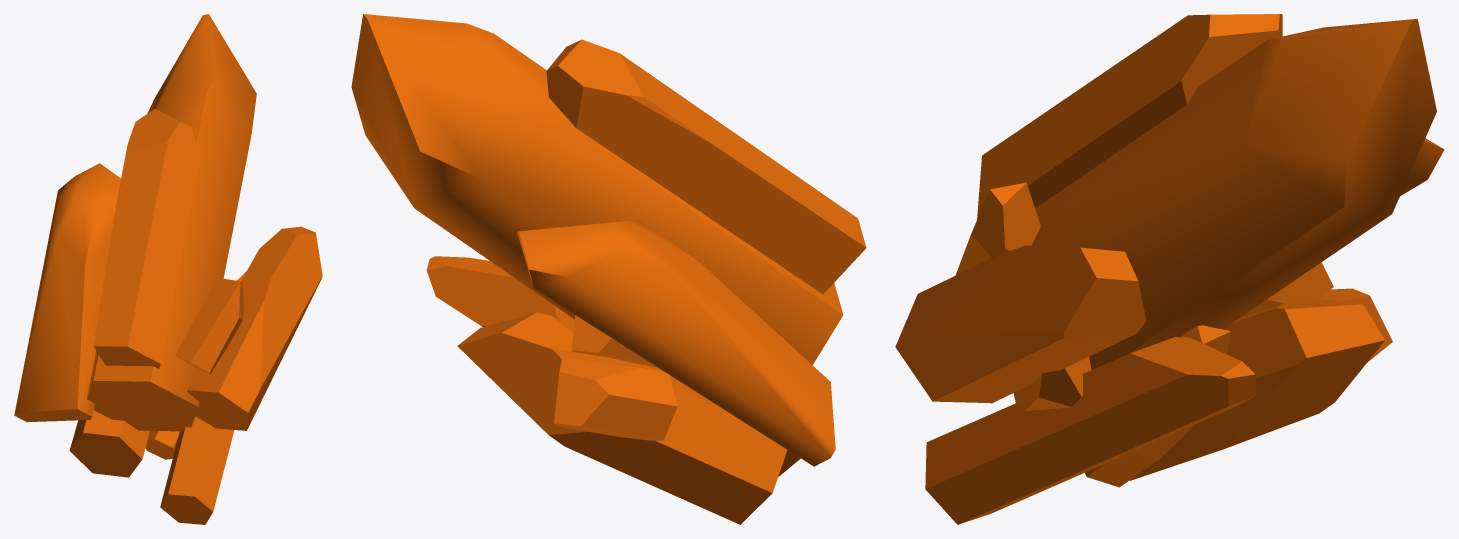
Rendered from definity.crystal_rock_crystal_lefttop.glb.
3 views of the same model, side by side, from view 1: azimuth 30°, elevation 25°; view 2: azimuth 150°, elevation 25°; view 3: azimuth 270°, elevation 25° (orthographic). The views are drawn at different scales.
Parts seen in each view (by area): view 1: Cylinder.001, Cylinder.002, Cylinder.004, Cylinder.011, Cylinder.010, Cylinder.025, Cylinder.009, Cylinder.022; view 2: Cylinder.001, Cylinder.004, Cylinder.002, Cylinder.009, Cylinder.013, Cylinder.010, Cylinder.003; view 3: Cylinder.001, Cylinder.010, Cylinder.011, Cylinder.002, Cylinder.009, Cylinder.025, Cylinder.024, Cylinder.022, Cylinder.003, Cylinder.013, Cylinder.004, Cylinder.023.
Part boxes in pixels (box(x1,y1,x2,y2)): Cylinder.001: box(87, 14, 256, 431); Cylinder.002: box(93, 109, 200, 368); Cylinder.004: box(14, 163, 121, 422); Cylinder.011: box(187, 226, 322, 430); Cylinder.010: box(160, 271, 246, 524); Cylinder.025: box(176, 277, 243, 373); Cylinder.009: box(69, 410, 149, 477); Cylinder.022: box(145, 431, 179, 459); Cylinder.001: box(351, 14, 843, 364); Cylinder.004: box(517, 220, 835, 466); Cylinder.002: box(546, 39, 866, 294); Cylinder.009: box(457, 312, 787, 524); Cylinder.013: box(554, 357, 677, 440); Cylinder.010: box(426, 256, 800, 476); Cylinder.003: box(571, 315, 657, 367); Cylinder.001: box(1033, 18, 1436, 369); Cylinder.010: box(925, 337, 1256, 524); Cylinder.011: box(895, 245, 1146, 403); Cylinder.002: box(977, 14, 1282, 219); Cylinder.009: box(1130, 300, 1384, 480); Cylinder.025: box(955, 182, 1040, 275); Cylinder.024: box(1013, 356, 1091, 411); Cylinder.022: box(1085, 424, 1195, 487); Cylinder.003: box(1239, 262, 1333, 318); Cylinder.013: box(1318, 288, 1392, 362); Cylinder.004: box(1400, 138, 1444, 195); Cylinder.023: box(1180, 325, 1230, 354).
Bounding box in the file's own units: 3.78 × 4.71 × 3.78.
